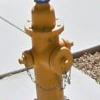Hydrant: (20, 1, 77, 100)
